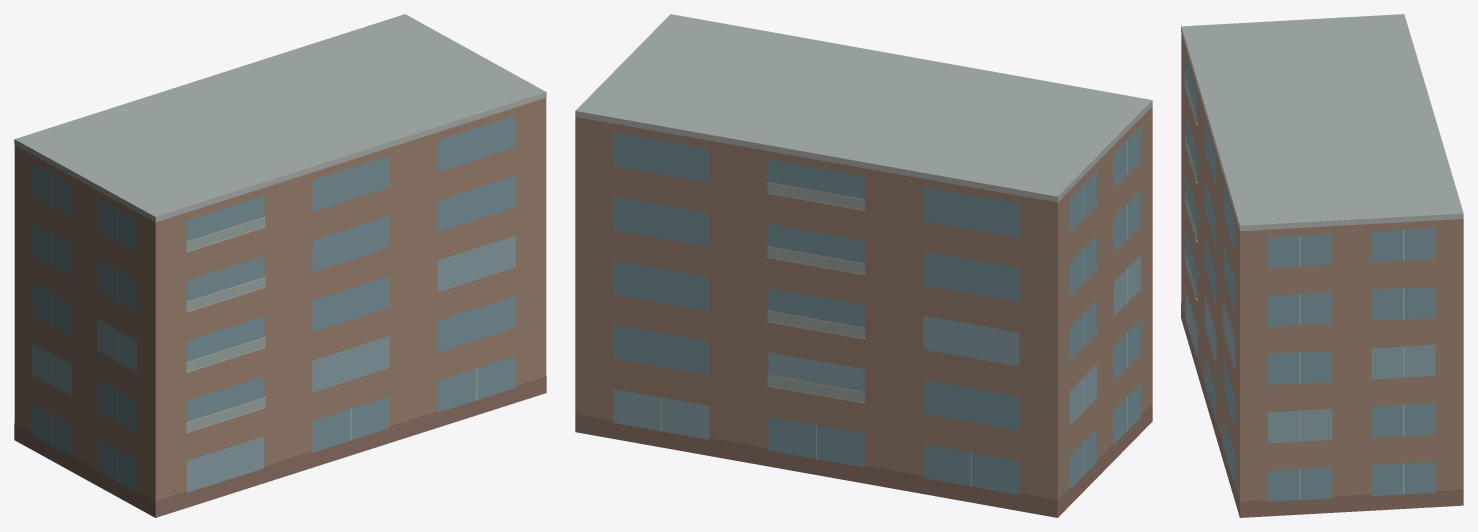
The model's file is survey-upis-32738370.glb.
The picture shows the model from 3 angles, left to right: view 1: azimuth 30°, elevation 25°; view 2: azimuth 150°, elevation 25°; view 3: azimuth 270°, elevation 25°; orthographic projection. The views are drawn at different scales.
Visible parts, largest first — view 1: survey-upis-32738370.tmp; view 2: survey-upis-32738370.tmp; view 3: survey-upis-32738370.tmp.
Part boxes in pixels (<box>): survey-upis-32738370.tmp: <box>14,14,546,517</box>; survey-upis-32738370.tmp: <box>575,14,1152,517</box>; survey-upis-32738370.tmp: <box>1181,14,1463,517</box>.
Size of the model in its own units: 20.62 by 13.25 by 11.63.
